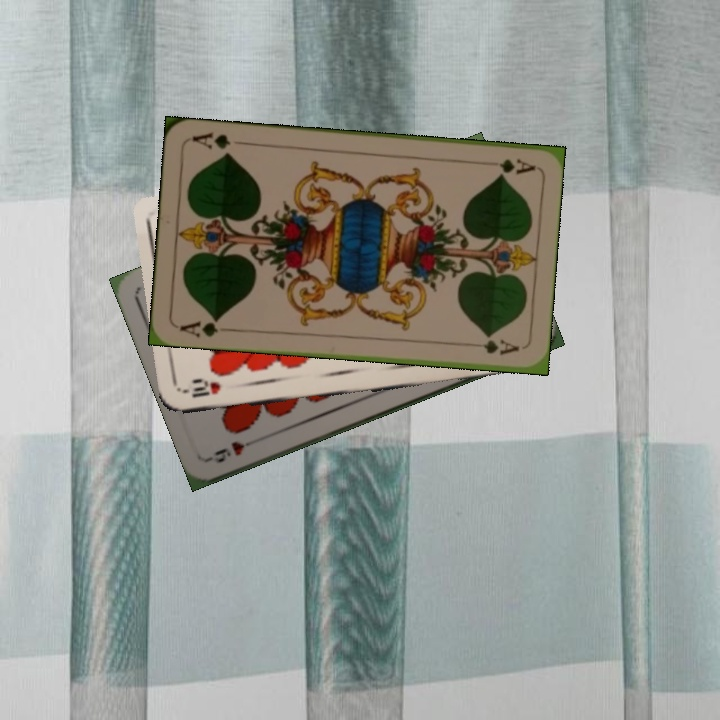GA: (175, 314, 234, 340), (478, 154, 537, 177)
H10: (181, 380, 223, 401)
H9: (206, 434, 263, 466)
